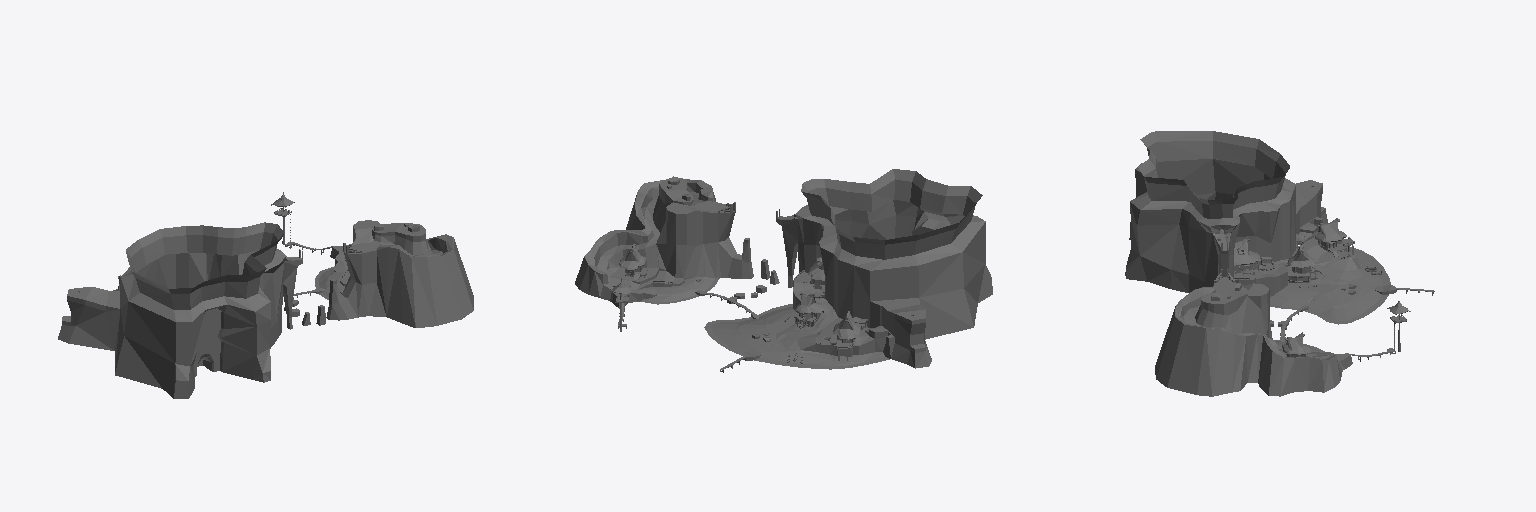
The model's file is menu.obj.
The picture shows the model from 3 angles: view 1: azimuth 30°, elevation 25°; view 2: azimuth 150°, elevation 25°; view 3: azimuth 270°, elevation 25°; orthographic projection.
Parts seen in each view (by area): view 1: n5b5_n5b5.001, n0b0_n0b0.001, n6b6_n6b6.001, n4b4_n4b4.001; view 2: n5b5_n5b5.001, n6b6_n6b6.001, n0b0_n0b0.001, n4b4_n4b4.001, n1b1_n1b1.001, n3b2_n3b2.001, n2b3_n2b3.001; view 3: n5b5_n5b5.001, n6b6_n6b6.001, n0b0_n0b0.001, n4b4_n4b4.001, n1b1_n1b1.001, n3b2_n3b2.001, n2b3_n2b3.001.
Part boxes in pixels (bbox=[...]): n5b5_n5b5.001: bbox=[58, 227, 473, 398]; n0b0_n0b0.001: bbox=[126, 222, 284, 309]; n6b6_n6b6.001: bbox=[63, 221, 452, 321]; n4b4_n4b4.001: bbox=[58, 220, 453, 370]; n5b5_n5b5.001: bbox=[575, 188, 992, 367]; n6b6_n6b6.001: bbox=[585, 178, 985, 369]; n0b0_n0b0.001: bbox=[801, 169, 982, 259]; n4b4_n4b4.001: bbox=[584, 176, 928, 368]; n1b1_n1b1.001: bbox=[612, 244, 860, 338]; n3b2_n3b2.001: bbox=[617, 202, 867, 372]; n2b3_n2b3.001: bbox=[612, 251, 866, 363]; n5b5_n5b5.001: bbox=[1125, 159, 1339, 396]; n6b6_n6b6.001: bbox=[1130, 159, 1390, 360]; n0b0_n0b0.001: bbox=[1138, 131, 1289, 218]; n4b4_n4b4.001: bbox=[1175, 180, 1396, 380]; n1b1_n1b1.001: bbox=[1234, 218, 1408, 354]; n3b2_n3b2.001: bbox=[1214, 234, 1434, 361]; n2b3_n2b3.001: bbox=[1234, 219, 1410, 357].
Bounding box in the file's own units: 1.94 × 0.5574 × 1.45.